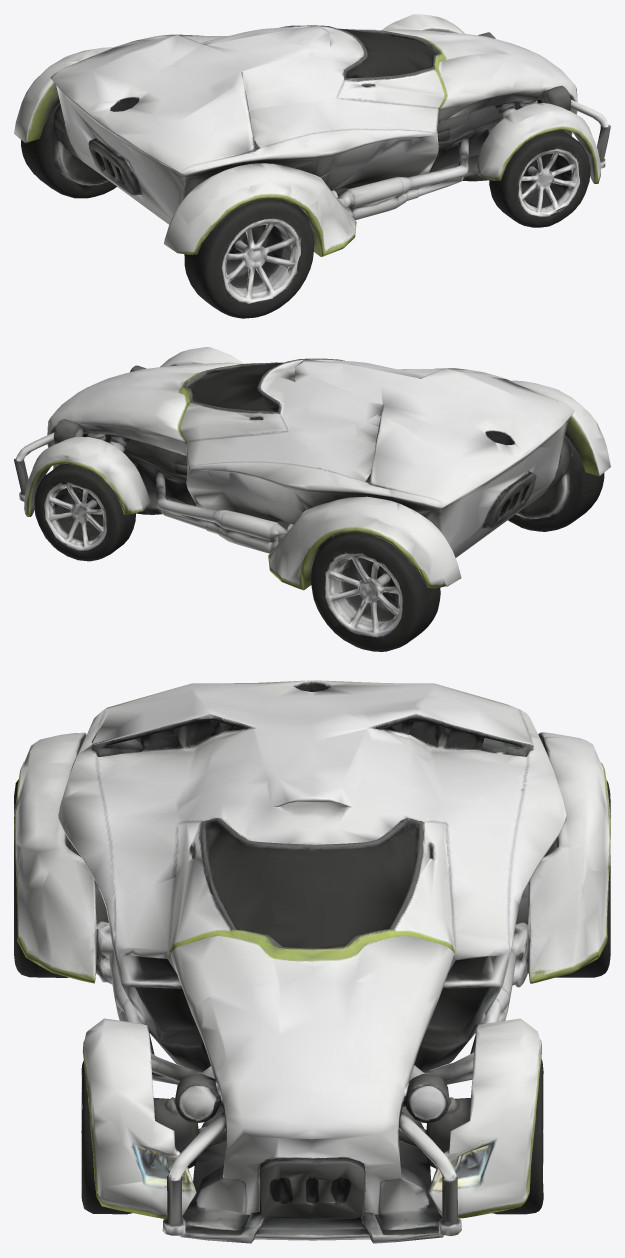
File: car8.glb
The picture shows the model from 3 angles, top to bottom: view 1: azimuth 30°, elevation 25°; view 2: azimuth 150°, elevation 25°; view 3: azimuth 270°, elevation 25°; orthographic projection. The views are drawn at different scales.
Parts seen in each view (by area): view 1: tripo_node_c9f95a0b-b748-49f9-9192-c0b1757b3a1f; view 2: tripo_node_c9f95a0b-b748-49f9-9192-c0b1757b3a1f; view 3: tripo_node_c9f95a0b-b748-49f9-9192-c0b1757b3a1f.
Part boxes in pixels (x1,y1,x2,y2): tripo_node_c9f95a0b-b748-49f9-9192-c0b1757b3a1f: [14, 14, 610, 318]; tripo_node_c9f95a0b-b748-49f9-9192-c0b1757b3a1f: [14, 347, 610, 651]; tripo_node_c9f95a0b-b748-49f9-9192-c0b1757b3a1f: [14, 680, 610, 1243].
Size of the model in its own units: 0.9996 by 0.3727 by 0.6911.
1 material, 1 textured.
